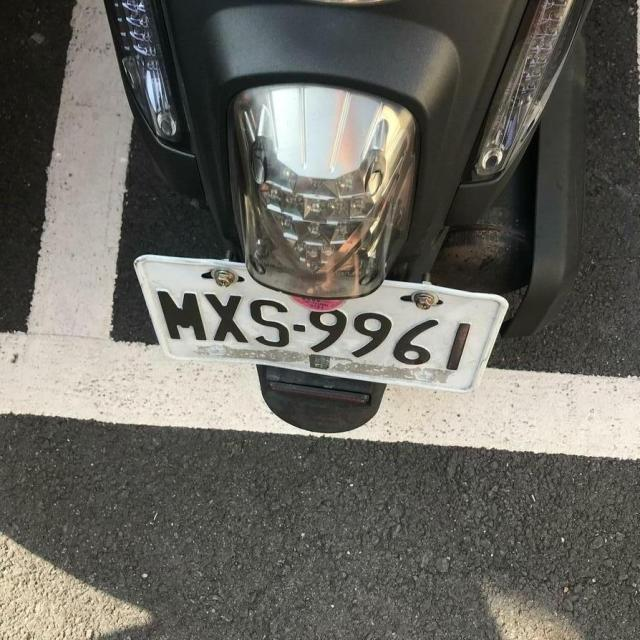W: (127, 250, 504, 394)
